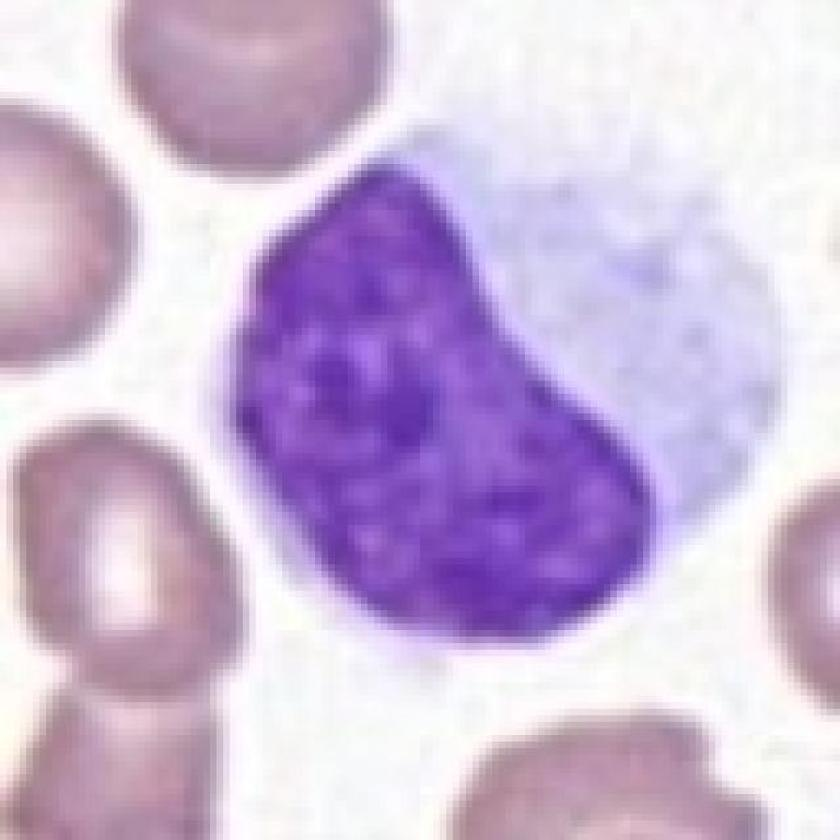lymphocyte: (205, 116, 793, 656)
